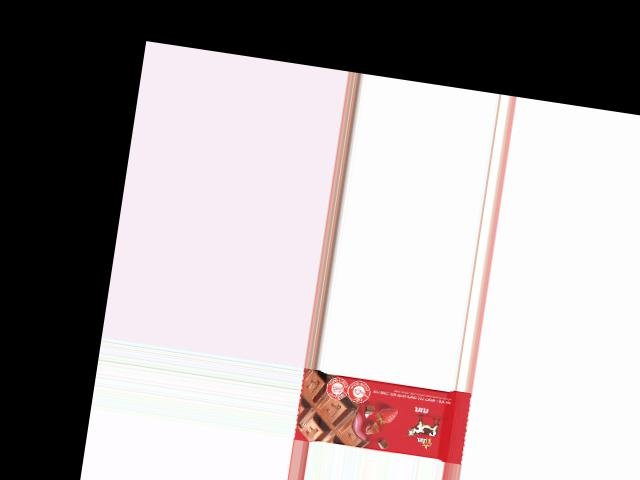chocolate: (295, 367, 473, 463)
